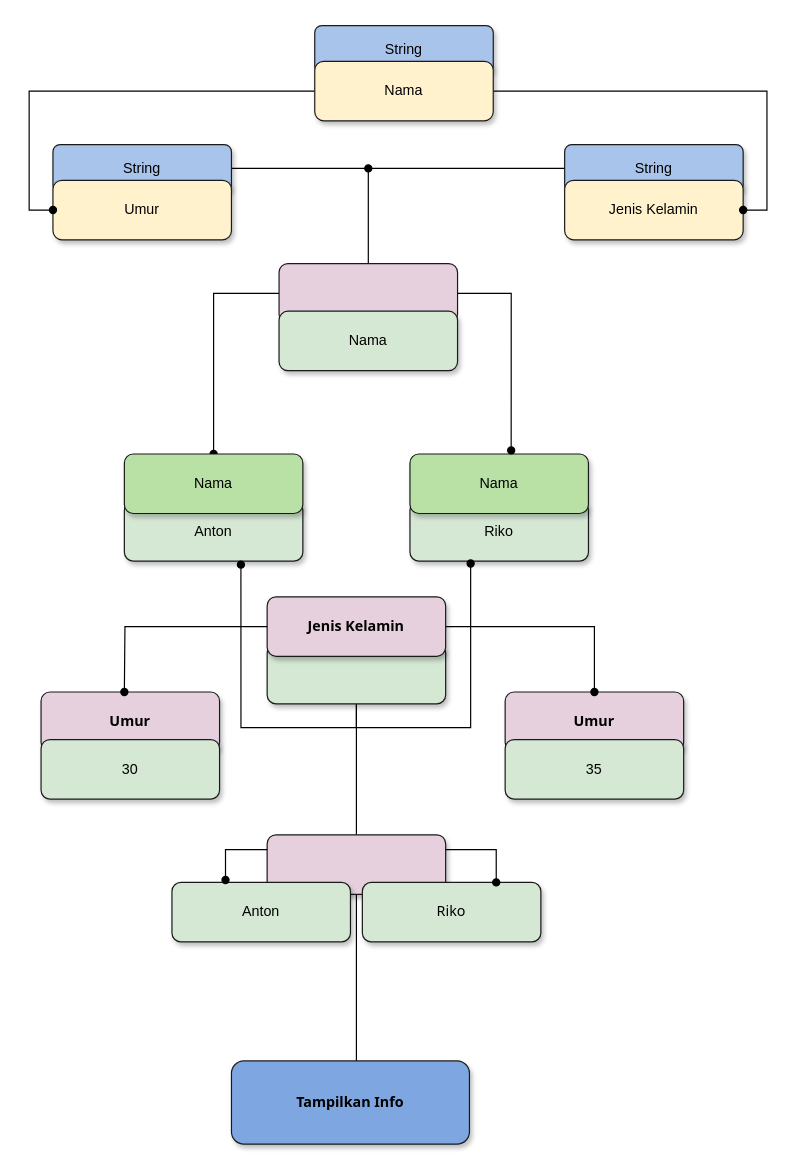
This 797x1173 diagram has some shape labels left out. The shapes that lost their labels are listed below. From the top down, each one's centre as x and y in pixels, then its label:
point (368, 292): Person
point (357, 675): Laki-laki
point (357, 866): Informasi
